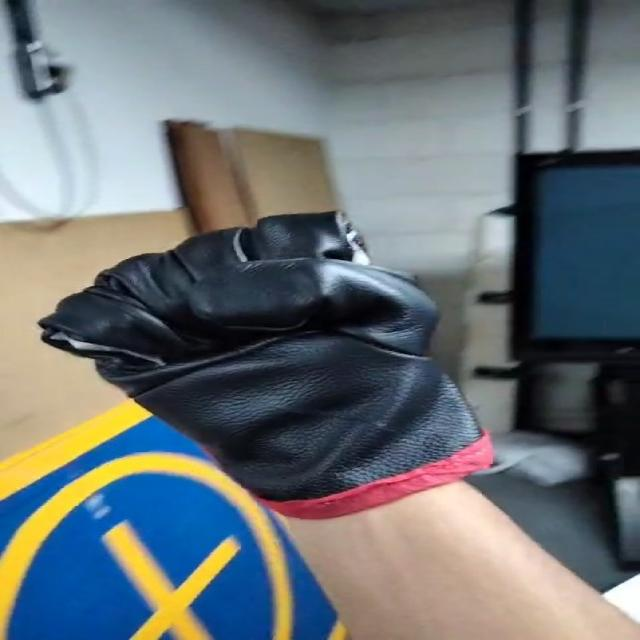Gloves: (36, 210, 498, 518)
